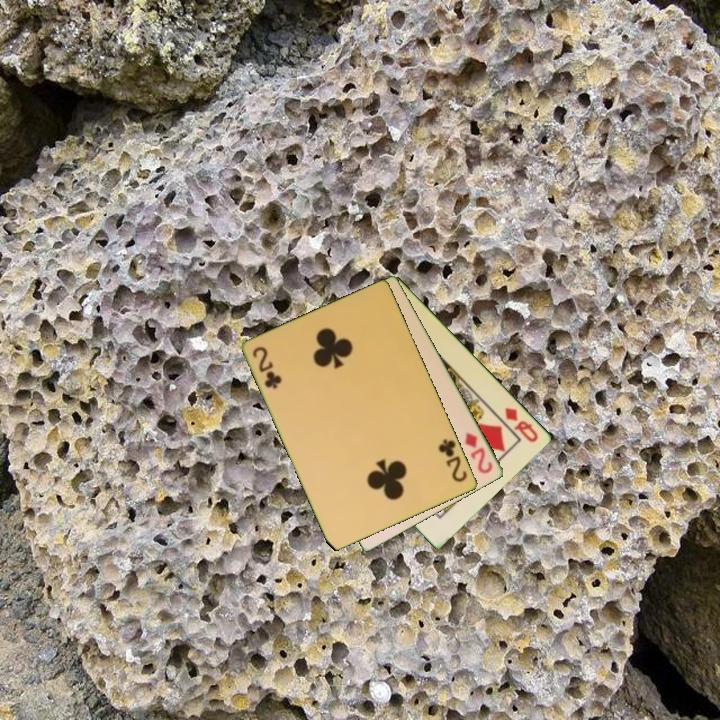2c: (435, 436, 470, 485), (249, 343, 284, 392)
2d: (462, 429, 496, 477)
Qd: (501, 404, 541, 446)
